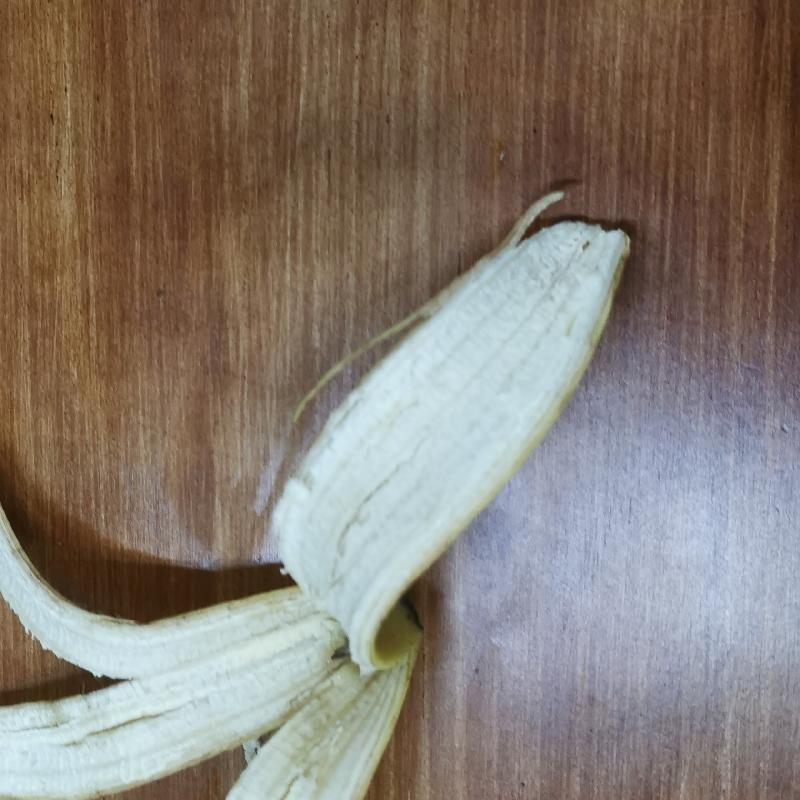bananas: (6, 180, 632, 799)
